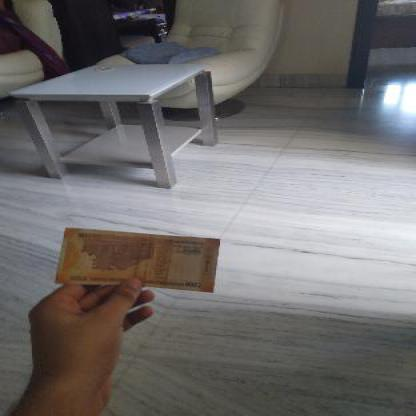New200Back: (62, 226, 221, 288)
